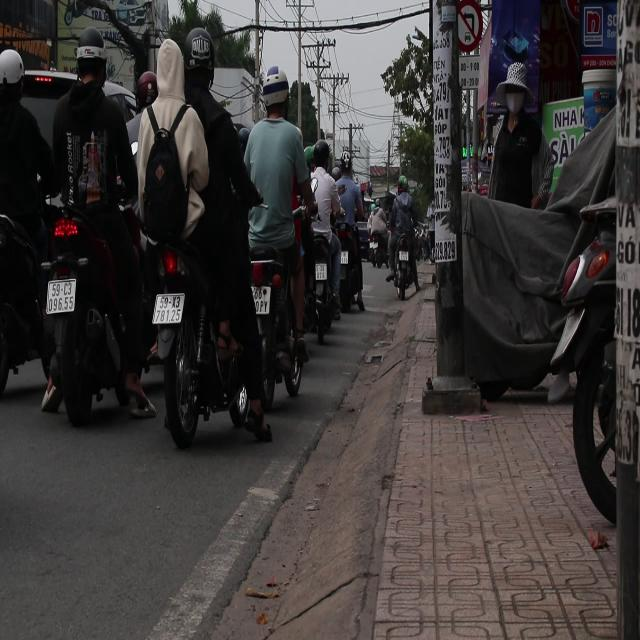motorbike: (156, 245, 258, 444), (48, 211, 128, 433), (248, 240, 312, 407), (298, 214, 346, 347), (386, 193, 423, 299)
